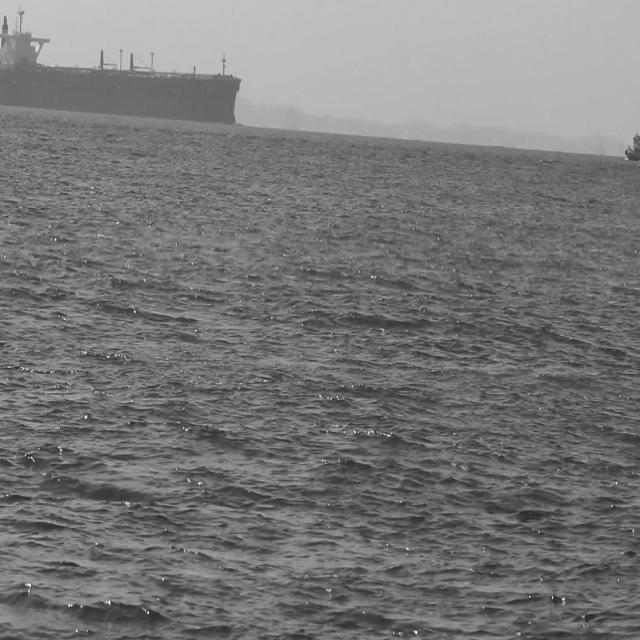ship: (1, 6, 242, 127), (625, 130, 640, 168)
